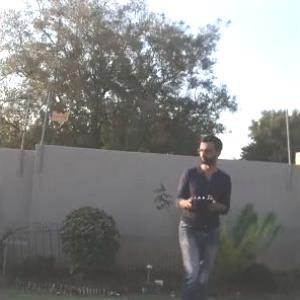follow: (169, 131, 234, 299)
